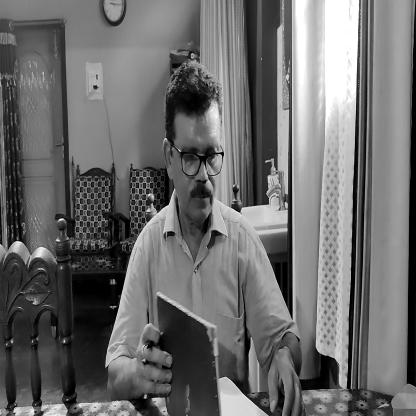Normal: (162, 60, 222, 228)
